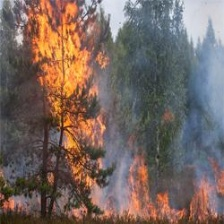fire: (29, 11, 109, 171), (74, 178, 224, 223)
smoke: (185, 32, 224, 156)
